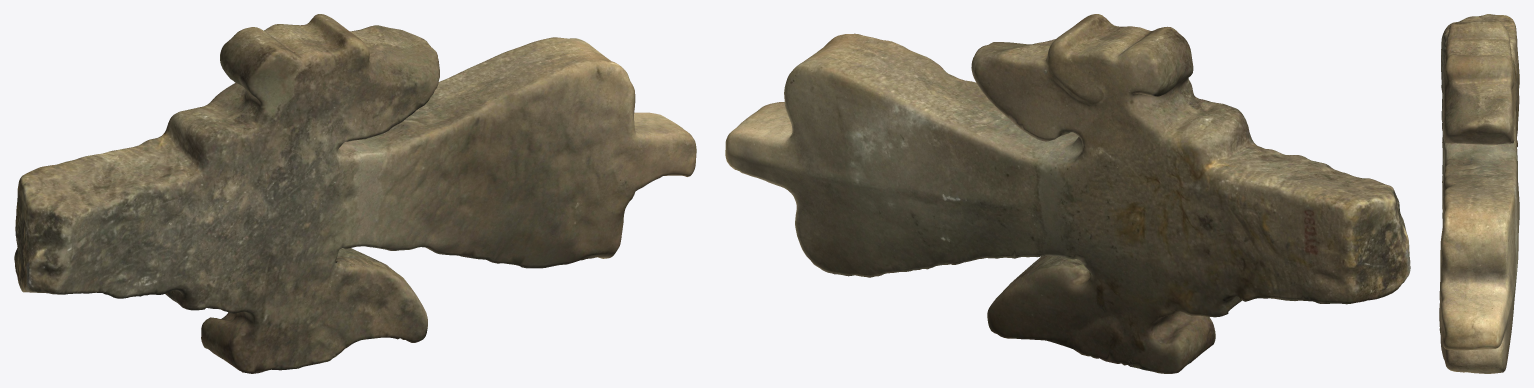
File: 25_vattrangtri_final.glb
3 views of the same model, side by side, from view 1: azimuth 30°, elevation 25°; view 2: azimuth 150°, elevation 25°; view 3: azimuth 270°, elevation 25° (orthographic). The views are drawn at different scales.
Size of the model in its own units: 0.6369 by 0.2973 by 0.0864.
1 material, 1 textured.
